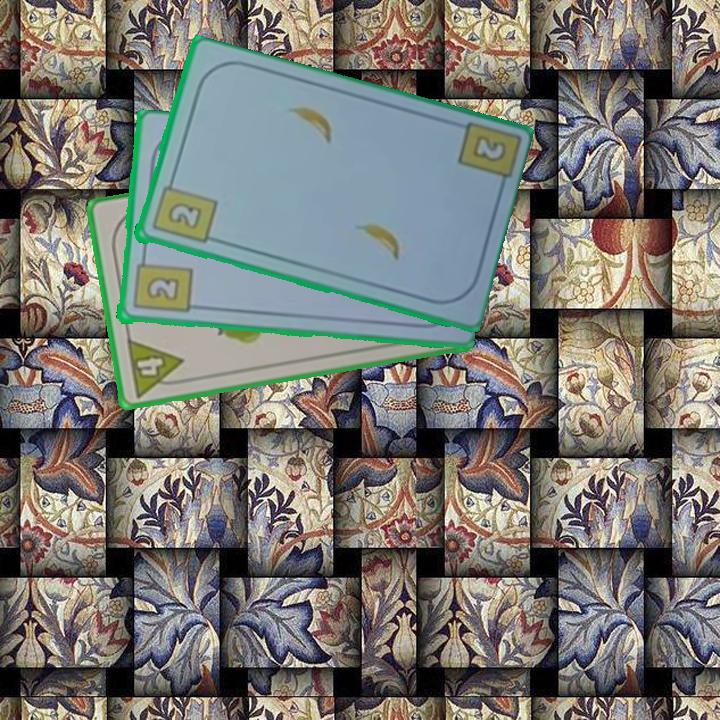2b: (148, 174, 219, 247), (129, 251, 194, 317), (472, 135, 506, 163)
4p: (123, 335, 189, 400)
